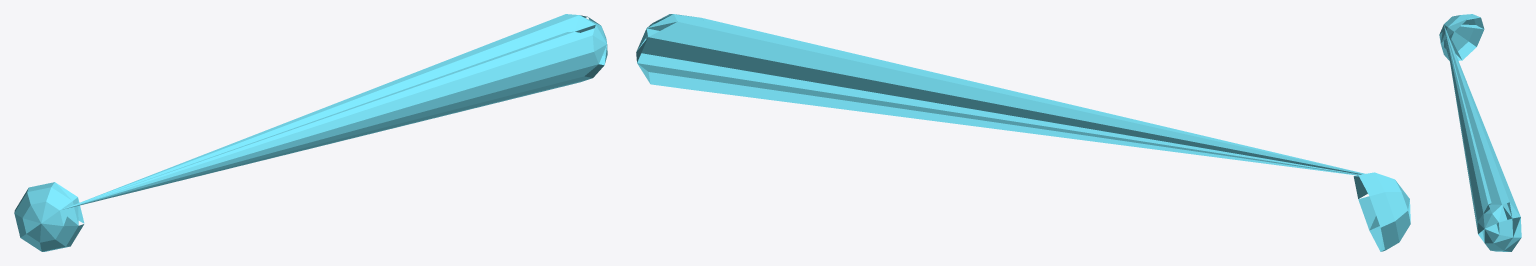
File: S.S._Dolphin_outer_lights.obj
3 views of the same model, side by side, from view 1: azimuth 30°, elevation 25°; view 2: azimuth 150°, elevation 25°; view 3: azimuth 270°, elevation 25° (orthographic). The views are drawn at different scales.
Visible parts, largest first — view 1: S.S._Dolphin_outer_lights; view 2: S.S._Dolphin_outer_lights; view 3: S.S._Dolphin_outer_lights.
Part boxes in pixels (x1=…): S.S._Dolphin_outer_lights: x1=14, y1=14, x2=607, y2=251; S.S._Dolphin_outer_lights: x1=636, y1=14, x2=1410, y2=251; S.S._Dolphin_outer_lights: x1=1439, y1=14, x2=1521, y2=251.
Size of the model in its own units: 4.86 by 0.6127 by 0.7631.
